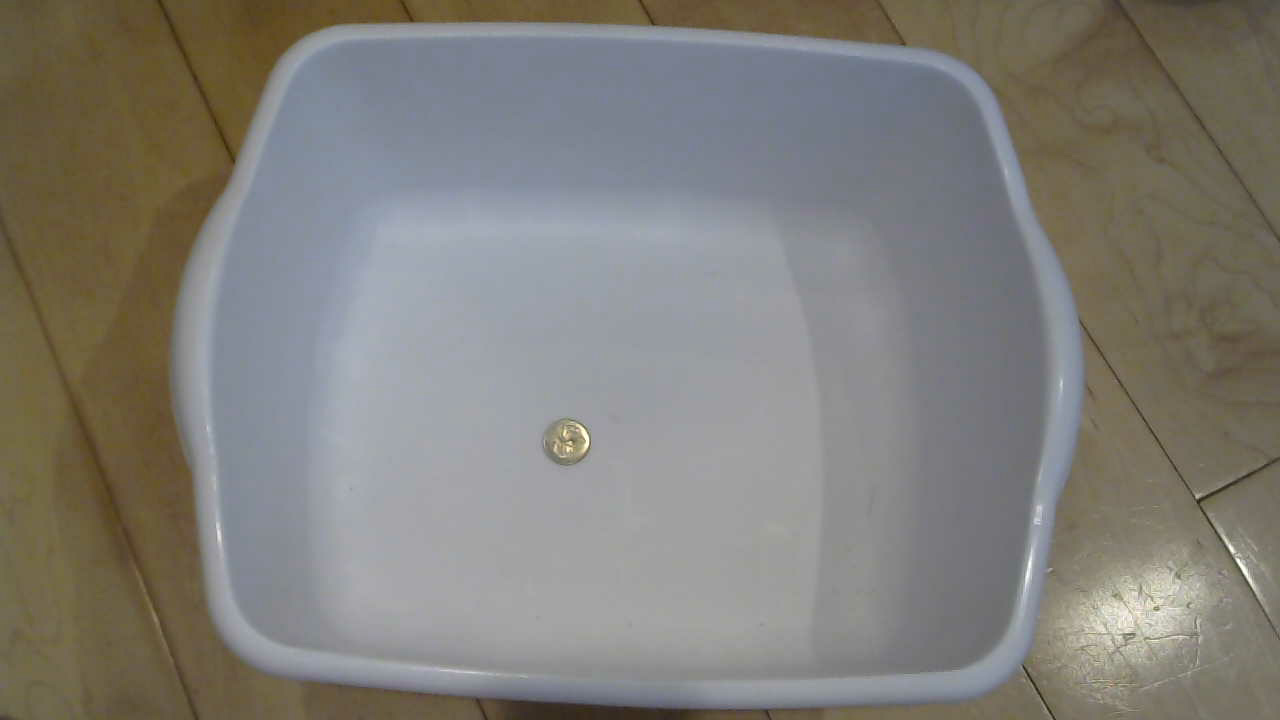coin: (545, 423, 609, 482)
